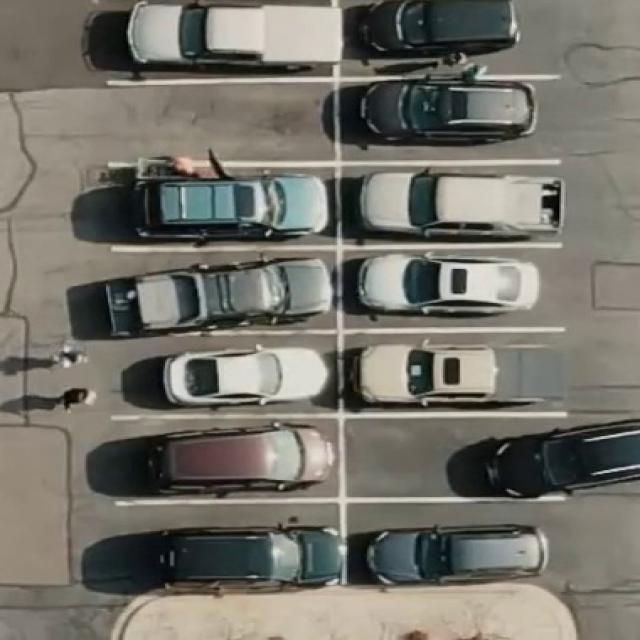empty: (118, 92, 326, 156)
notEmpty: (117, 513, 336, 586), (353, 510, 567, 581), (120, 2, 327, 75), (350, 169, 565, 239), (118, 426, 336, 494), (348, 86, 567, 153), (354, 255, 561, 325), (116, 173, 330, 240), (354, 342, 567, 409), (116, 258, 330, 324), (354, 428, 568, 493), (349, 0, 547, 68), (122, 345, 329, 405)
